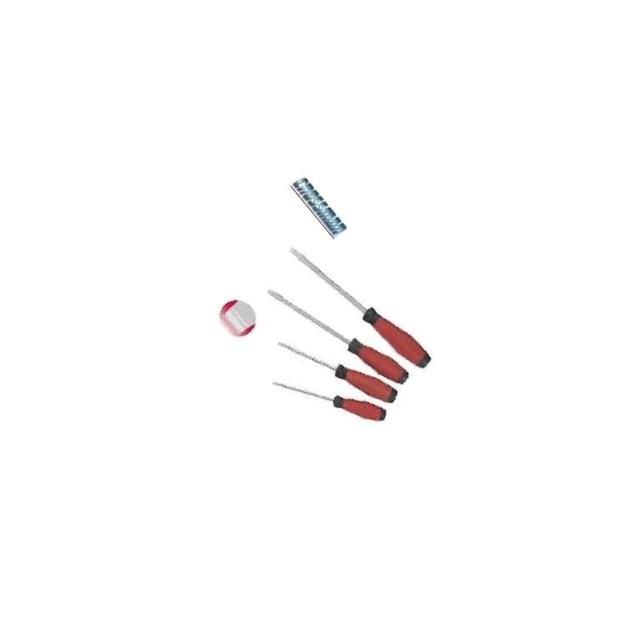screwdriver: (282, 217, 434, 389), (262, 251, 416, 419), (271, 299, 404, 442), (267, 334, 390, 462)
